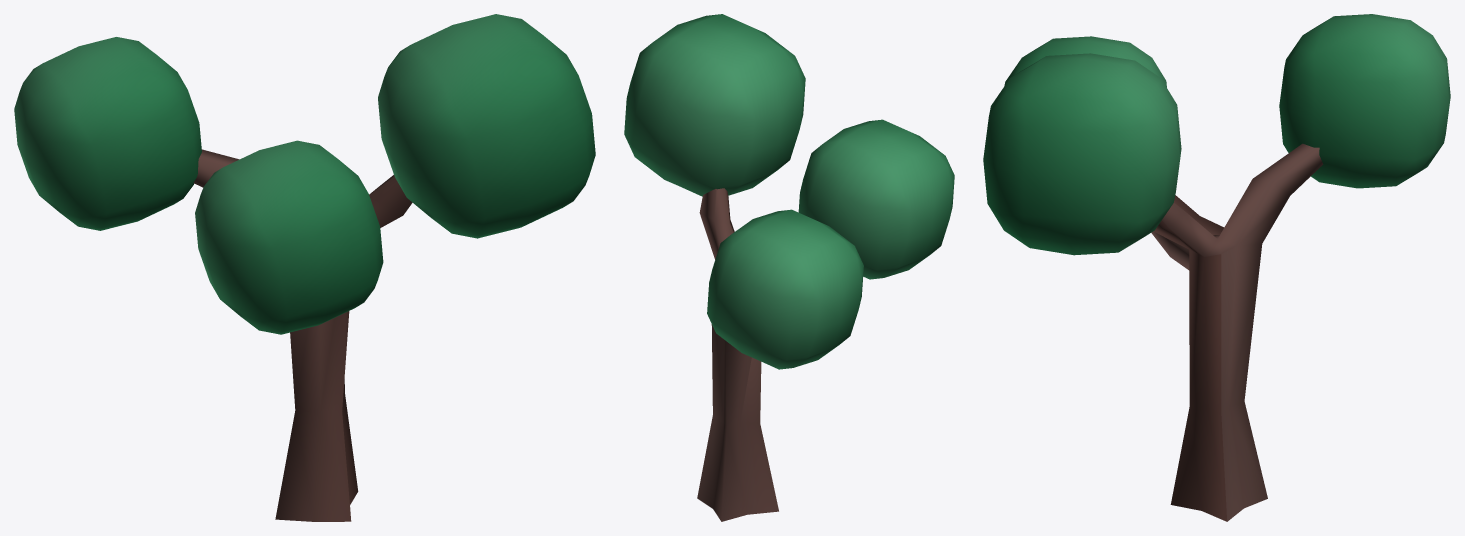
The model's file is Small_Tree.fbx.
3 renders of one model, left to right at view 1: azimuth 30°, elevation 25°; view 2: azimuth 150°, elevation 25°; view 3: azimuth 270°, elevation 25°, orthographic. The views are drawn at different scales.
Visible parts, largest first — view 1: Cube.050; view 2: Cube.050; view 3: Cube.050.
Boxes of the visible parts, x1,y1,x2,y2 form: Cube.050: [14, 14, 595, 521]; Cube.050: [624, 14, 954, 521]; Cube.050: [983, 14, 1450, 521].
Bounding box in the file's own units: 342 × 408 × 357.
